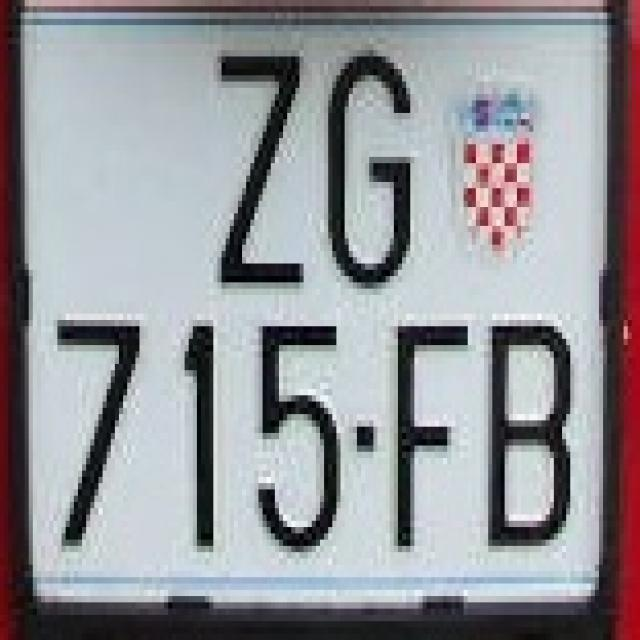1: (160, 301, 250, 565)
5: (254, 307, 345, 571)
7: (45, 295, 144, 558)
B: (480, 307, 583, 565)
F: (381, 307, 476, 571)
G: (316, 44, 414, 289)
Z: (205, 44, 312, 295)
